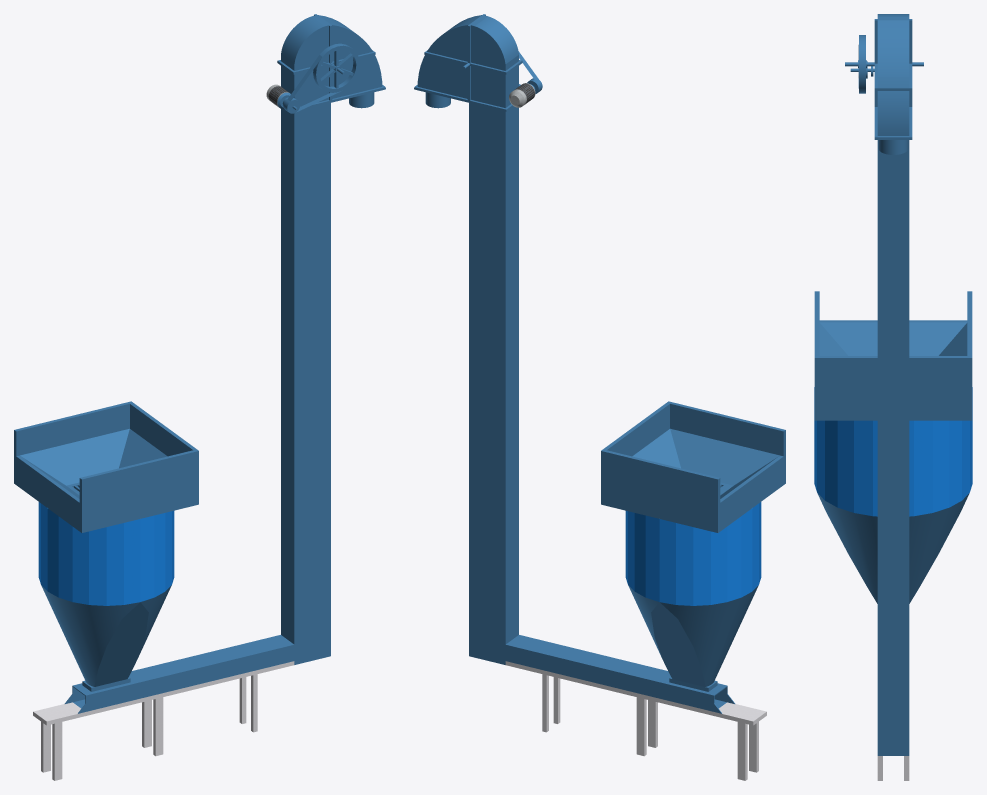
Rendered from 提升机.glb.
3 views of the same model, side by side, from view 1: azimuth 30°, elevation 25°; view 2: azimuth 150°, elevation 25°; view 3: azimuth 270°, elevation 25° (orthographic). The views are drawn at different scales.
Visible parts, largest first — view 1: root; view 2: root; view 3: root.
Part boxes in pixels (<box>): root: <box>14,14,385,780</box>; root: <box>414,14,785,780</box>; root: <box>814,14,972,780</box>.
Size of the model in its own units: 4.61 by 8.98 by 1.6.
5 materials, 3 textured.
